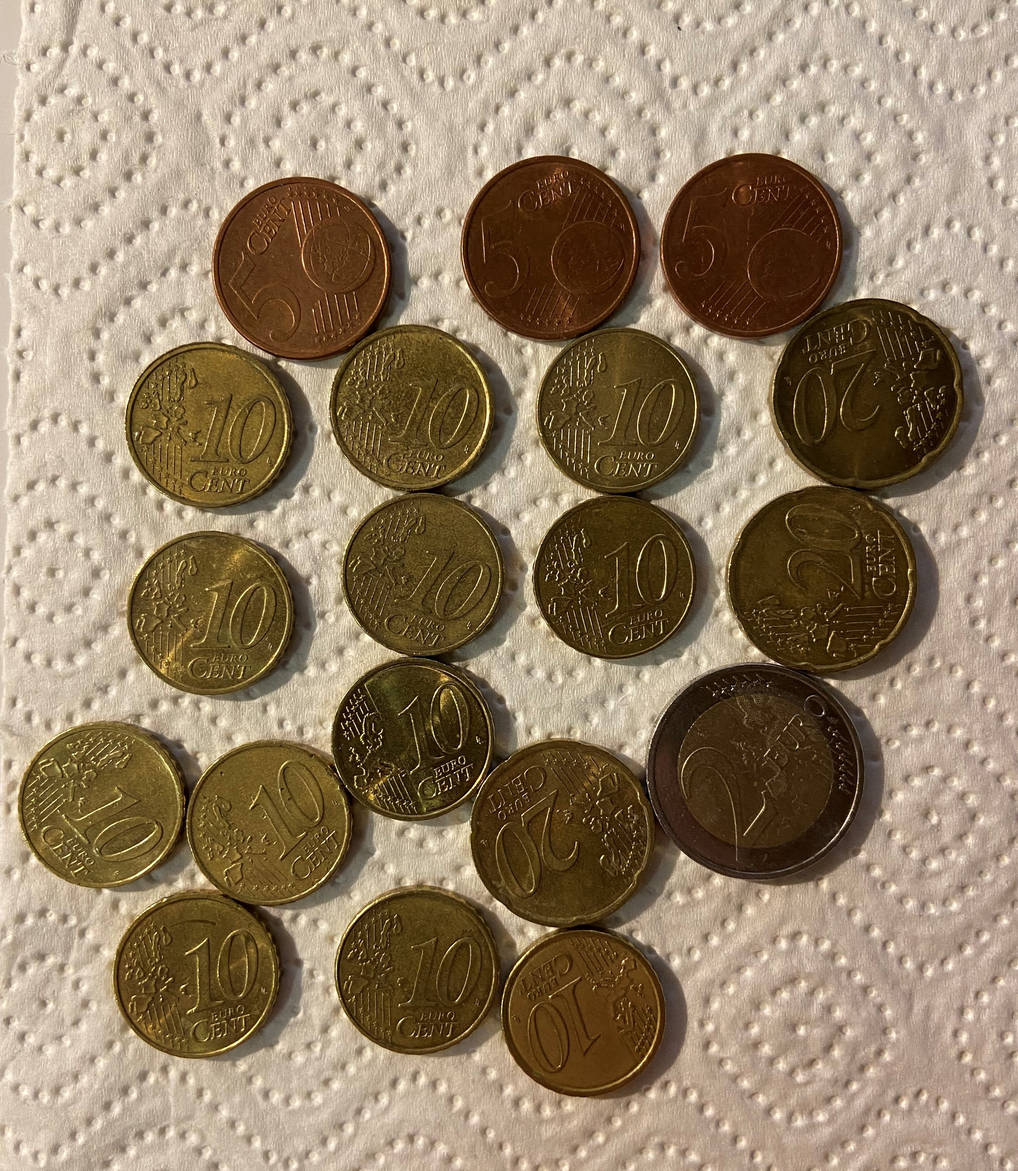10 cent: (112, 889, 280, 1059), (112, 889, 279, 1059), (125, 343, 294, 510), (334, 888, 503, 1055), (331, 318, 500, 485), (18, 722, 186, 889), (498, 924, 666, 1091), (343, 492, 511, 659), (529, 490, 697, 657), (127, 531, 294, 697), (186, 741, 352, 907), (535, 328, 699, 495), (330, 658, 494, 822)
2 euro: (644, 664, 862, 882)
20 cent: (728, 476, 914, 666), (777, 298, 963, 488), (469, 739, 654, 929), (330, 658, 494, 822)
5 cent: (659, 153, 841, 340), (460, 156, 639, 343), (211, 177, 391, 362)
